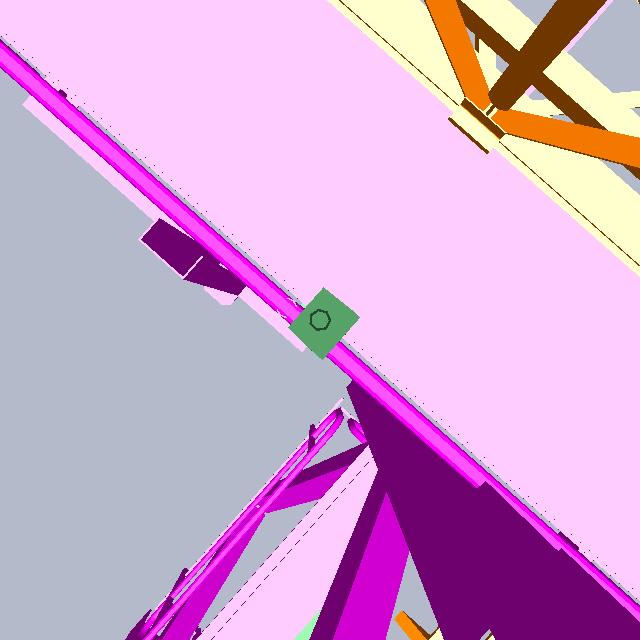Poste: (306, 309, 332, 333)
Soporte: (138, 216, 262, 315)
